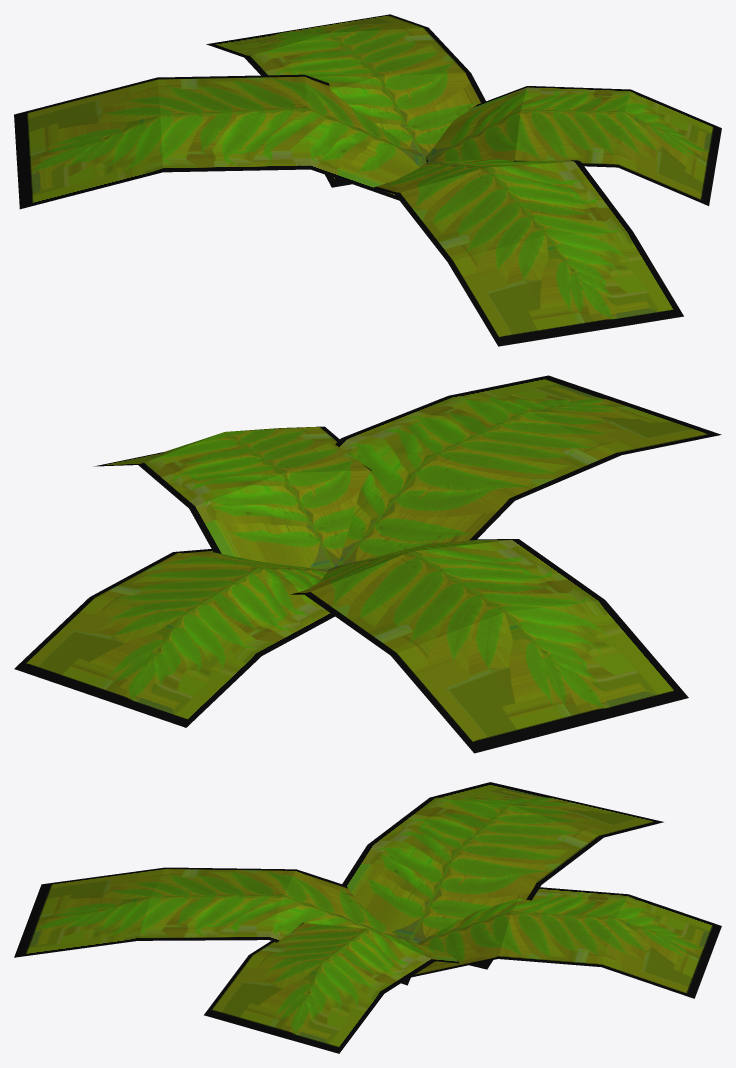
The model's file is FernLeafSprout2.fbx.
The picture shows the model from 3 angles, top to bottom: view 1: azimuth 30°, elevation 25°; view 2: azimuth 150°, elevation 25°; view 3: azimuth 270°, elevation 25°; orthographic projection. The views are drawn at different scales.
Visible parts, largest first — view 1: FernLeaf.005; view 2: FernLeaf.005; view 3: FernLeaf.005.
Boxes of the visible parts, box(x1,y1,x2,y2) form: FernLeaf.005: box(14, 14, 721, 346); FernLeaf.005: box(14, 375, 721, 753); FernLeaf.005: box(14, 782, 721, 1053).
Bounding box in the file's own units: 216 × 21.12 × 243.
